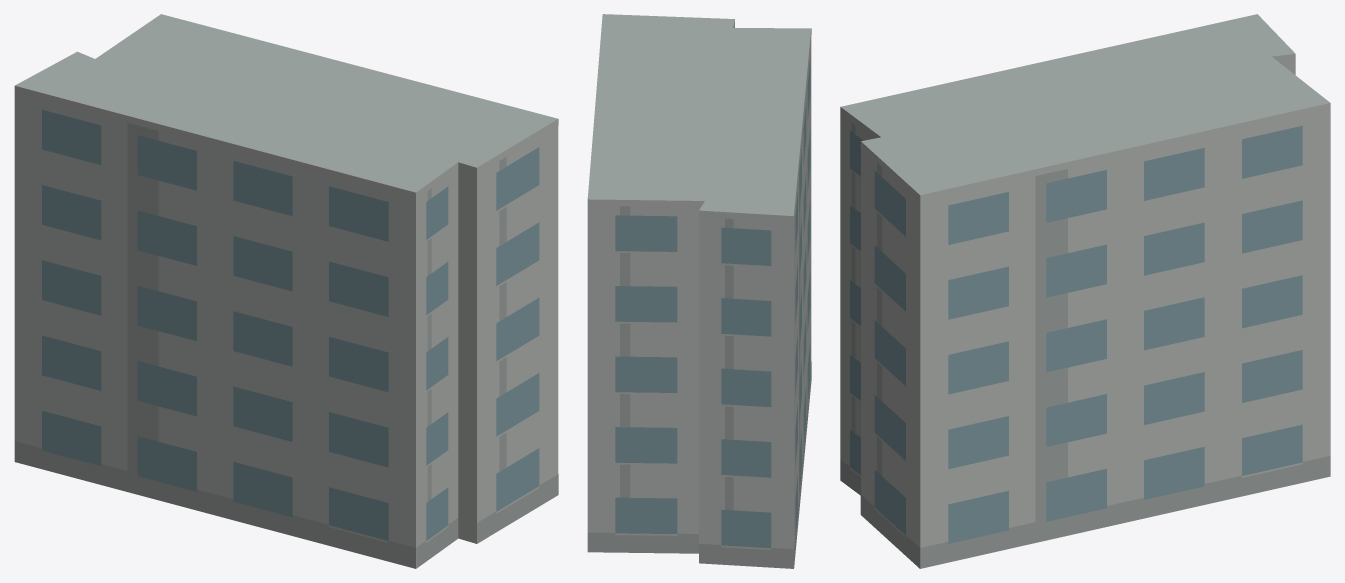
The model's file is survey-upis-32951822.glb.
3 views of the same model, side by side, from view 1: azimuth 30°, elevation 25°; view 2: azimuth 150°, elevation 25°; view 3: azimuth 270°, elevation 25° (orthographic). The views are drawn at different scales.
Visible parts, largest first — view 1: survey-upis-32951822.tmp; view 2: survey-upis-32951822.tmp; view 3: survey-upis-32951822.tmp.
Part boxes in pixels (left/top/right/bottom): survey-upis-32951822.tmp: left=14, top=14, right=558, bottom=568; survey-upis-32951822.tmp: left=587, top=14, right=811, bottom=568; survey-upis-32951822.tmp: left=840, top=14, right=1330, bottom=568.
Size of the model in its own units: 13.95 by 13.4 by 15.94.
